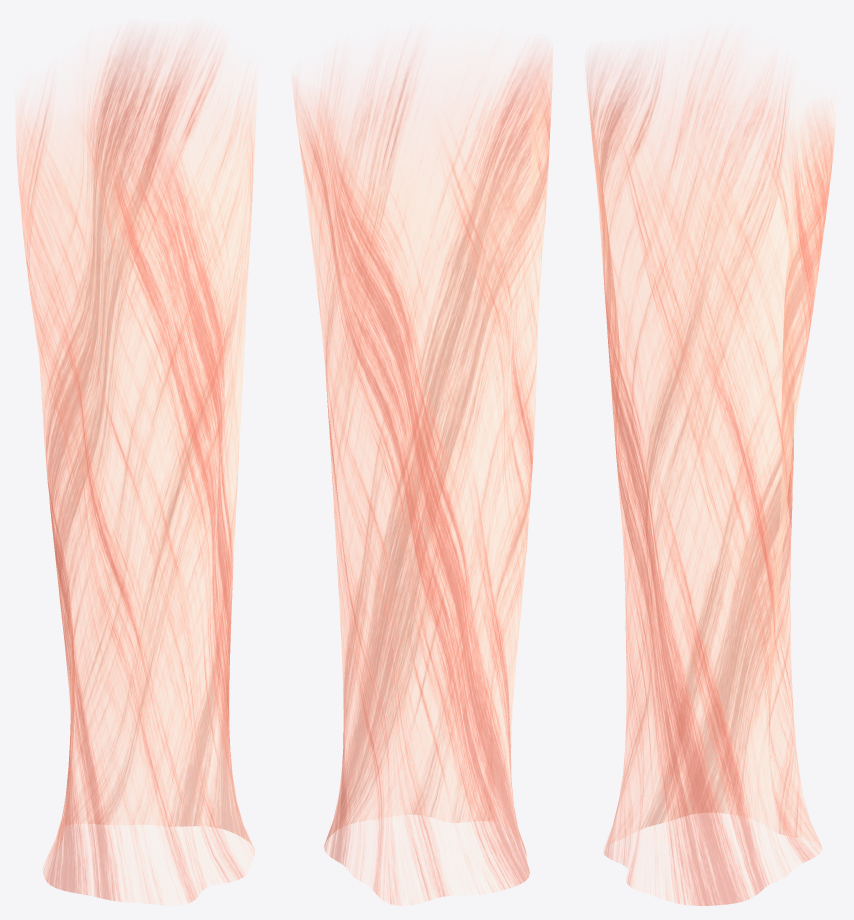
The model's file is devil_mid_1.glb.
The picture shows the model from 3 angles, left to right: view 1: azimuth 30°, elevation 25°; view 2: azimuth 150°, elevation 25°; view 3: azimuth 270°, elevation 25°; orthographic projection.
Parts seen in each view (by area): view 1: devil_mid_1; view 2: devil_mid_1; view 3: devil_mid_1.
Boxes of the visible parts, x1,y1,x2,y2 form: devil_mid_1: (15, 33, 257, 905); devil_mid_1: (292, 44, 552, 905); devil_mid_1: (585, 39, 836, 905).
Bounding box in the file's own units: 6.31 × 21.2 × 6.27.
Materials: 1 (1 with a texture image).
